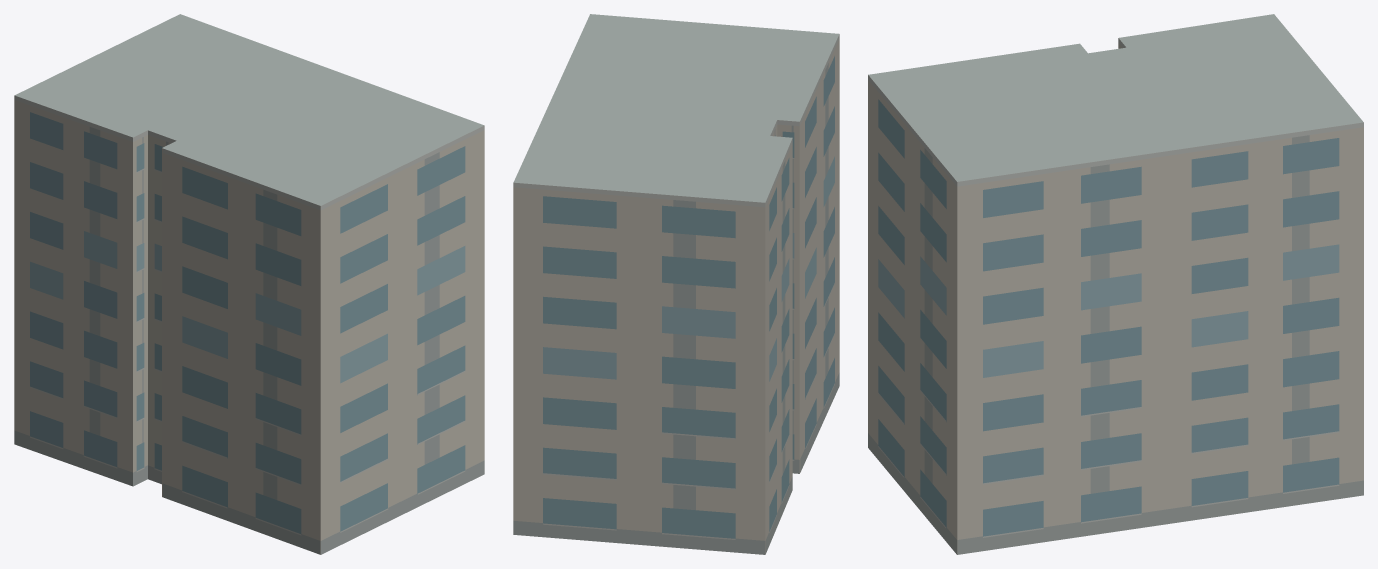
The model's file is survey-upis-32721271.glb.
The picture shows the model from 3 angles, left to right: view 1: azimuth 30°, elevation 25°; view 2: azimuth 150°, elevation 25°; view 3: azimuth 270°, elevation 25°; orthographic projection. The views are drawn at different scales.
Parts seen in each view (by area): view 1: survey-upis-32721271.tmp; view 2: survey-upis-32721271.tmp; view 3: survey-upis-32721271.tmp.
Part boxes in pixels (x1,y1,x2,y2): survey-upis-32721271.tmp: (14, 14, 484, 554); survey-upis-32721271.tmp: (513, 14, 839, 554); survey-upis-32721271.tmp: (868, 14, 1363, 554).
Bounding box in the file's own units: 18.35 × 19 × 22.9.
